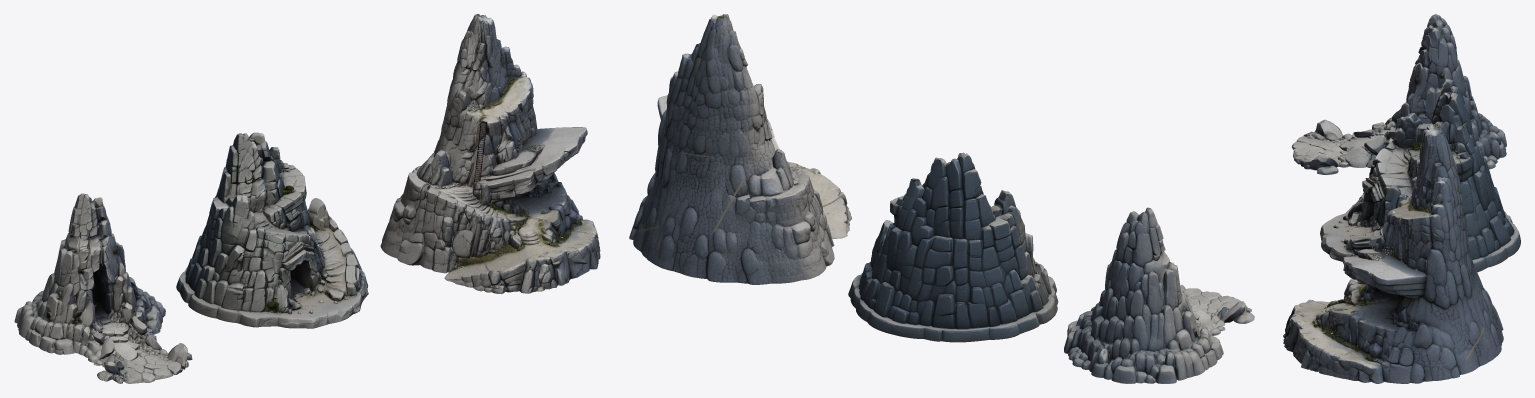
3 renders of one model, left to right at view 1: azimuth 30°, elevation 25°; view 2: azimuth 150°, elevation 25°; view 3: azimuth 270°, elevation 25°, orthographic. The views are drawn at different scales.
Parts seen in each view (by area): view 1: Cave Rock Mountain3, Cave Rock Mountain2, Cave Rock Mountain1; view 2: Cave Rock Mountain3, Cave Rock Mountain2, Cave Rock Mountain1; view 3: Cave Rock Mountain3, Cave Rock Mountain2, Cave Rock Mountain1.
Boxes of the visible parts, x1=… form: Cave Rock Mountain3: x1=380, y1=14, x2=600, y2=294; Cave Rock Mountain2: x1=176, y1=132, x2=368, y2=328; Cave Rock Mountain1: x1=14, y1=193, x2=192, y2=383; Cave Rock Mountain3: x1=629, y1=14, x2=851, y2=284; Cave Rock Mountain2: x1=848, y1=152, x2=1058, y2=342; Cave Rock Mountain1: x1=1064, y1=207, x2=1254, y2=383; Cave Rock Mountain3: x1=1283, y1=123, x2=1503, y2=383; Cave Rock Mountain2: x1=1320, y1=79, x2=1520, y2=272; Cave Rock Mountain1: x1=1291, y1=14, x2=1506, y2=174.
Bounding box in the file's own units: 72.95 × 28.21 × 27.91.
Materials: 4 (4 with a texture image).
